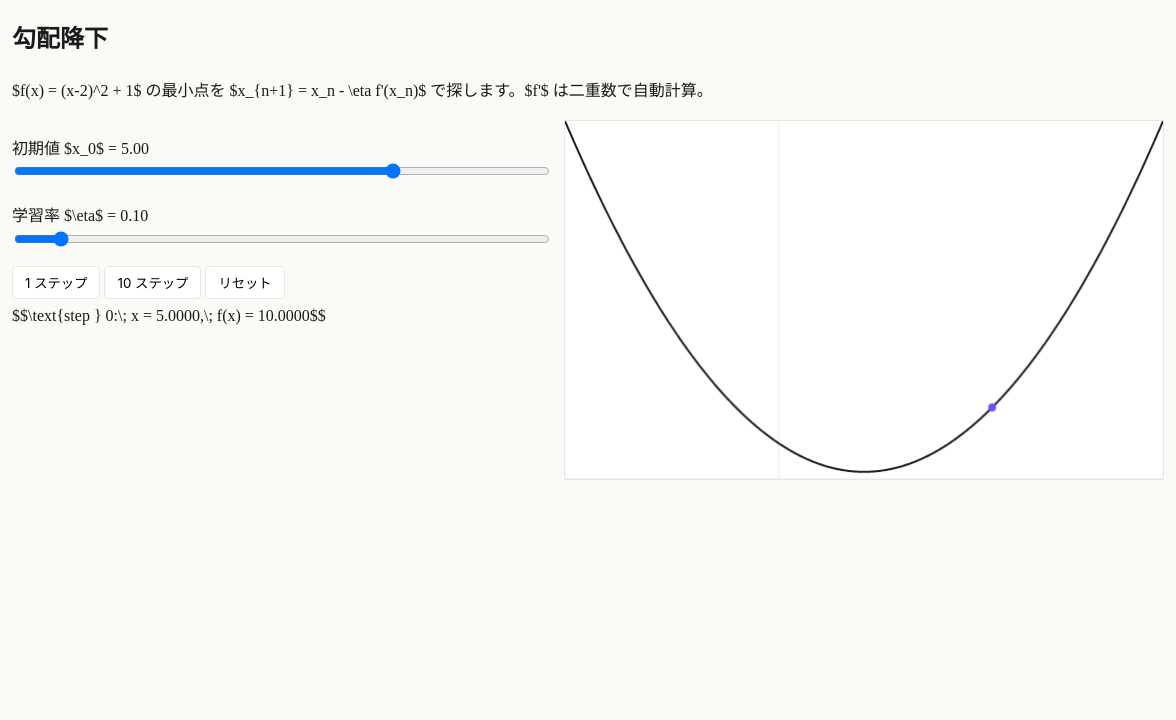
GradDescent route › shows last 8 rows with global step indices 3..10 after one "10 ステップ" click
This screenshot has width=1176, height=720.
Click the button "10 ステップ" at (153, 283), box [104,266,201,299]
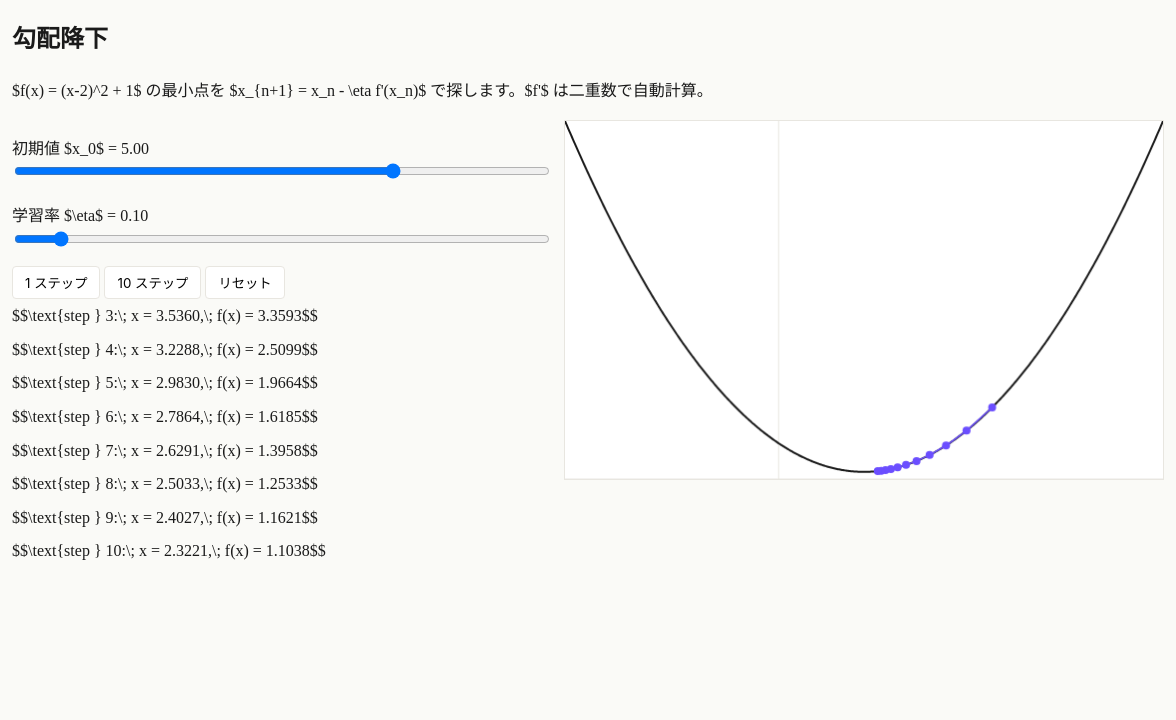
Check: the text "\\text{step } 3:" is shown, box [12,307,318,324]
Check: the text "\\text{step } 10:" is shown, box [12,542,326,559]
Check: the text "\\text{step } 0:" is gone
